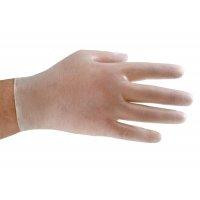gloves: (13, 46, 192, 143)
